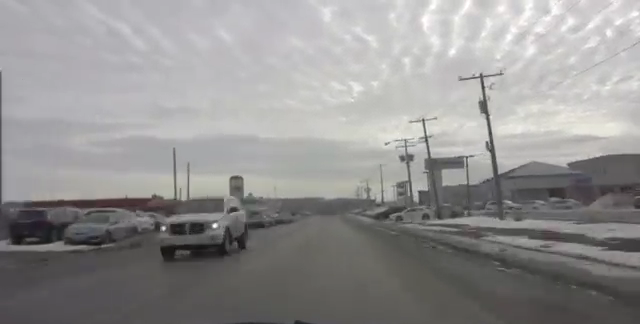car: (159, 195, 247, 260), (63, 209, 139, 246), (10, 207, 85, 243), (113, 208, 156, 234), (390, 206, 437, 223), (484, 200, 521, 215)
